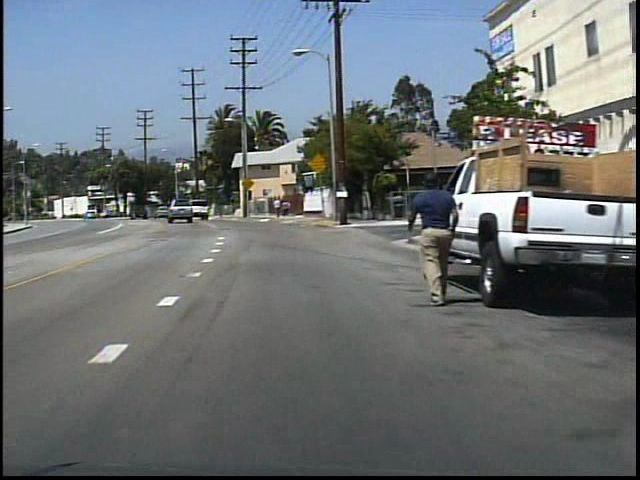person: (400, 167, 456, 306), (272, 195, 282, 219), (280, 198, 291, 218)
